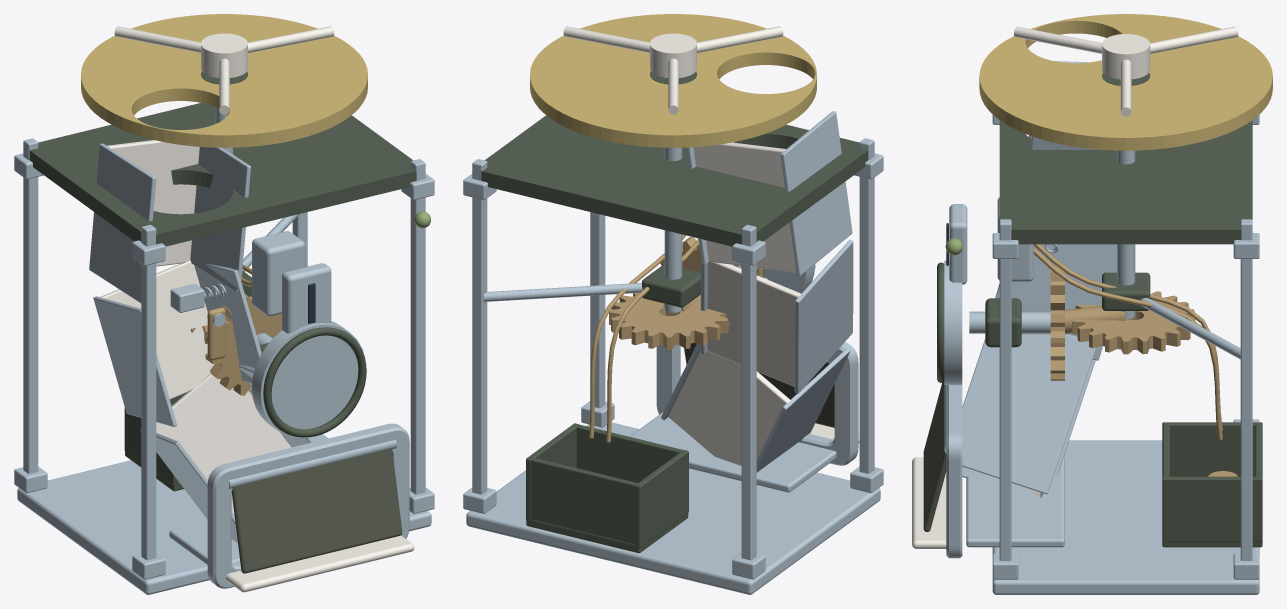
File: machine-friends-core-study.glb
3 renders of one model, left to right at view 1: azimuth 30°, elevation 25°; view 2: azimuth 150°, elevation 25°; view 3: azimuth 270°, elevation 25°, orthographic. The views are drawn at different scales.
Parts seen in each view (by area): view 1: PaperCapsuleMachine_Batch0, PaperCapsuleMachine_Batch1, MeteringDisc_Batch0, OutletFlap_Batch0, Stirrer_Batch0, DriveGear_Batch0, LockPawl_Batch0; view 2: PaperCapsuleMachine_Batch0, PaperCapsuleMachine_Batch1, MeteringDisc_Batch0, BevelGear_Batch0, Stirrer_Batch0, Spindle_Batch0, OutletFlap_Batch0; view 3: PaperCapsuleMachine_Batch0, PaperCapsuleMachine_Batch1, MeteringDisc_Batch0, Stirrer_Batch0, BevelGear_Batch0, OutletFlap_Batch0, DriveGear_Batch0, Spindle_Batch0.
Part boxes in pixels (bbox=[...]): PaperCapsuleMachine_Batch0: bbox=[14, 138, 434, 594]; PaperCapsuleMachine_Batch1: bbox=[29, 103, 430, 592]; MeteringDisc_Batch0: bbox=[81, 14, 367, 147]; OutletFlap_Batch0: bbox=[231, 448, 402, 573]; Stirrer_Batch0: bbox=[114, 26, 334, 114]; DriveGear_Batch0: bbox=[205, 294, 282, 395]; LockPawl_Batch0: bbox=[207, 307, 225, 360]; PaperCapsuleMachine_Batch0: bbox=[463, 111, 883, 594]; PaperCapsuleMachine_Batch1: bbox=[481, 115, 868, 553]; MeteringDisc_Batch0: bbox=[530, 14, 816, 147]; BevelGear_Batch0: bbox=[609, 293, 729, 349]; Stirrer_Batch0: bbox=[563, 26, 783, 114]; Spindle_Batch0: bbox=[664, 147, 682, 312]; OutletFlap_Batch0: bbox=[684, 343, 834, 427]; PaperCapsuleMachine_Batch0: bbox=[944, 61, 1259, 594]; PaperCapsuleMachine_Batch1: bbox=[912, 120, 1262, 548]; MeteringDisc_Batch0: bbox=[979, 14, 1272, 150]; Stirrer_Batch0: bbox=[1014, 26, 1238, 116]; BevelGear_Batch0: bbox=[1071, 291, 1195, 354]; OutletFlap_Batch0: bbox=[923, 382, 946, 531]; DriveGear_Batch0: bbox=[1050, 264, 1064, 380]; Spindle_Batch0: bbox=[1117, 150, 1135, 319].
Size of the model in its own units: 0.171 by 0.264 by 0.1795.
